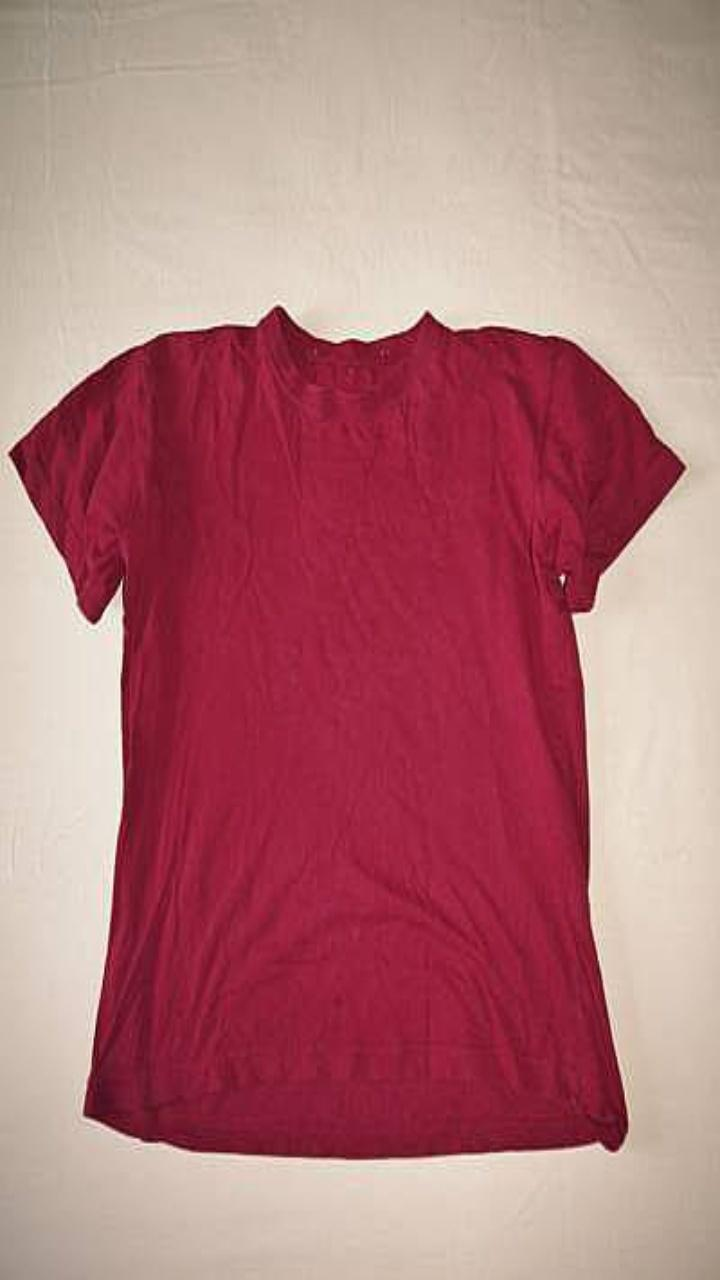T-Shirt: (9, 306, 685, 1156)
